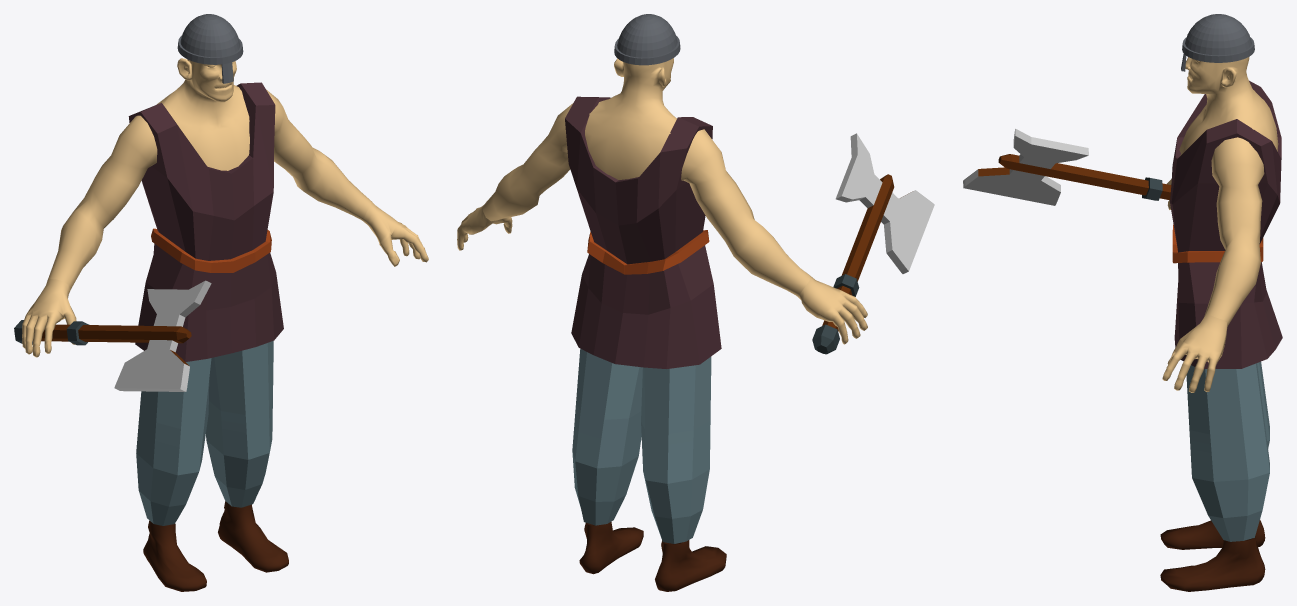
Rendered from enemy.fbx.
3 views of the same model, side by side, from view 1: azimuth 30°, elevation 25°; view 2: azimuth 150°, elevation 25°; view 3: azimuth 270°, elevation 25° (orthographic).
Visible parts, largest first — view 1: body; view 2: body; view 3: body.
Boxes of the visible parts, x1,y1,x2,y2 form: body: (14, 14, 428, 591); body: (457, 14, 934, 591); body: (963, 14, 1282, 591).
Size of the model in its own units: 1737 by 2290 by 1214.
